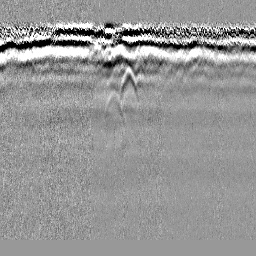cavity: (119, 64, 139, 101)
